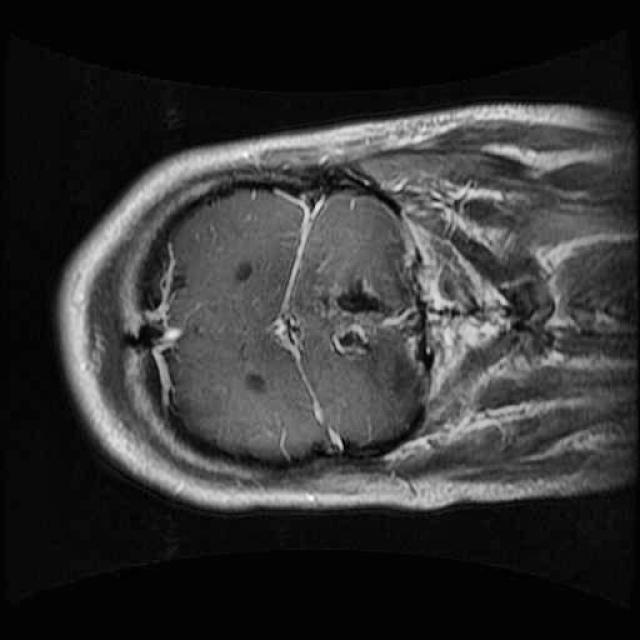Non-Tumor: (306, 255, 400, 371)
